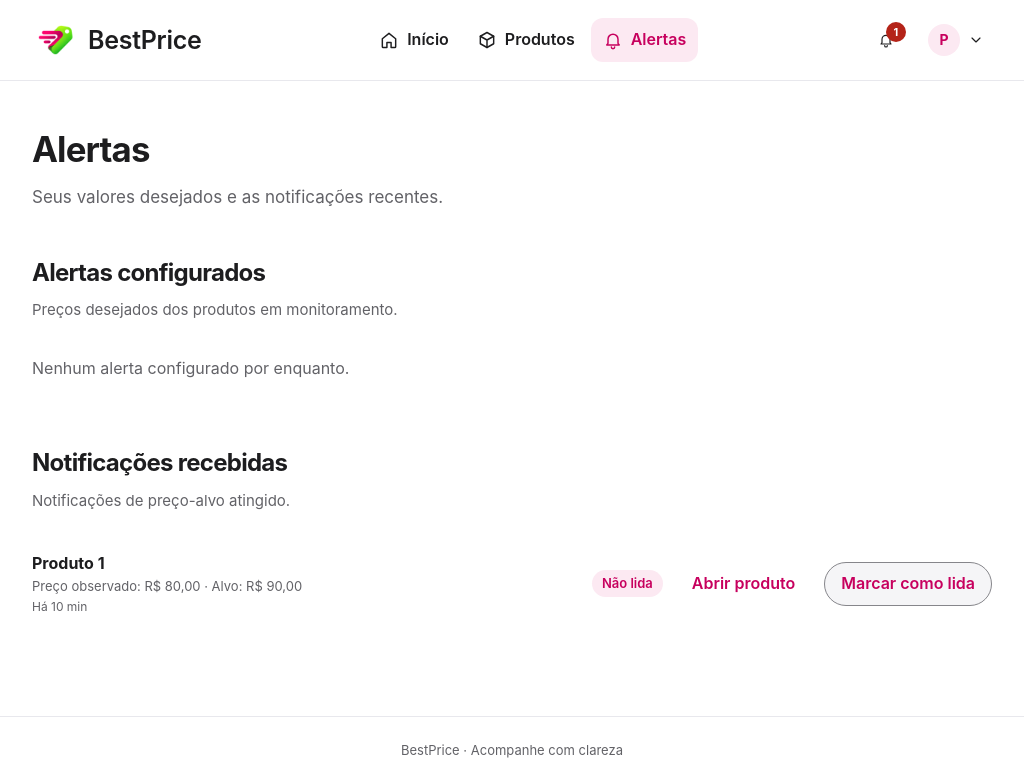
Test: painel do sino › reflete na seção Alertas o item marcado como lido no painel
Check: the text "Não lida" is shown, box [592,570,663,597]
Click the button named "Notificações". click: (886, 40)
box: [864,18,908,62]
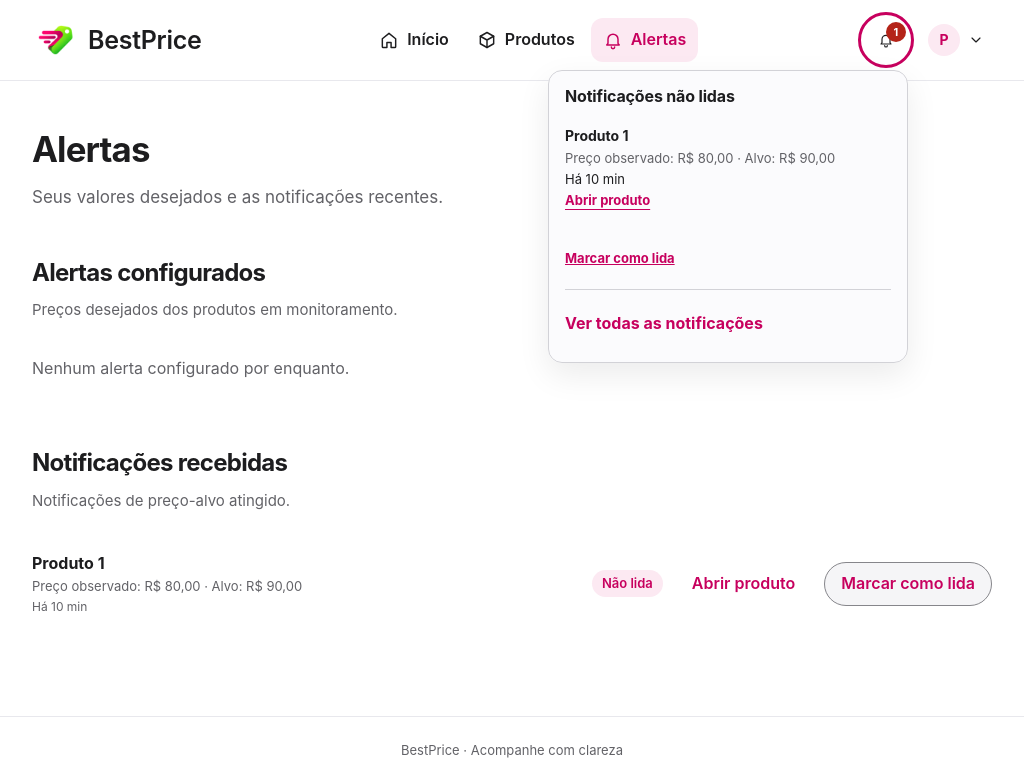
Click the button named "Marcar como lida: Produto 1". click: (620, 259)
box: [565,237,675,281]
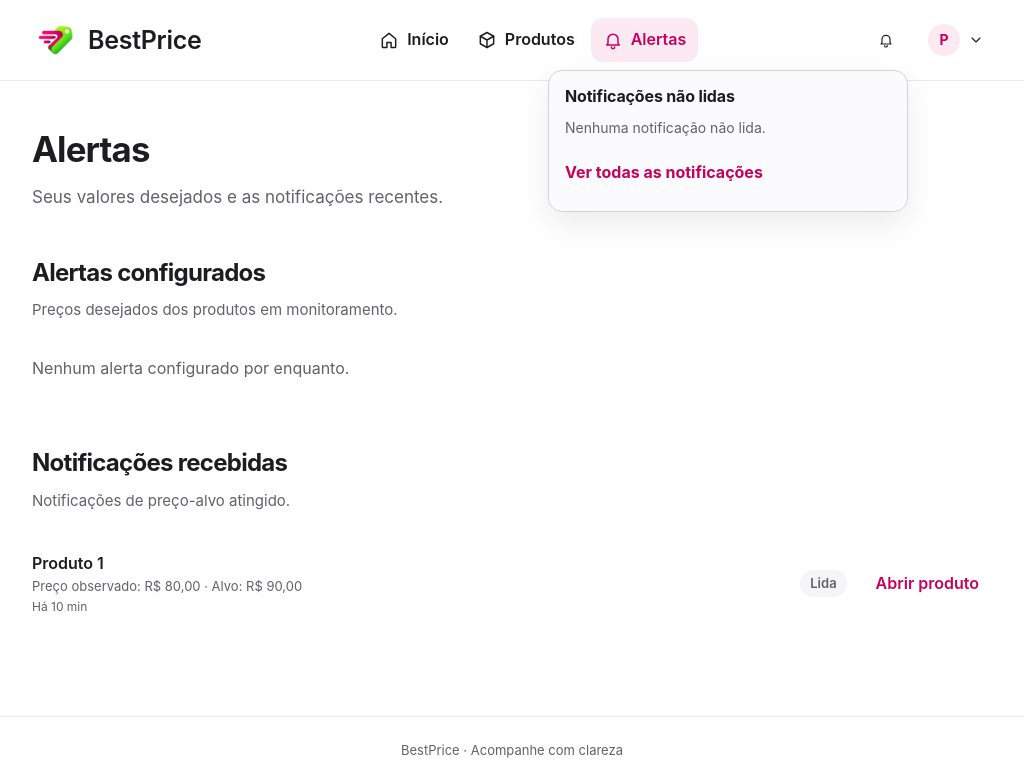
Check: the text "Lida" is shown, box [800,570,847,597]
Check: the button "Marcar como lida" is gone
